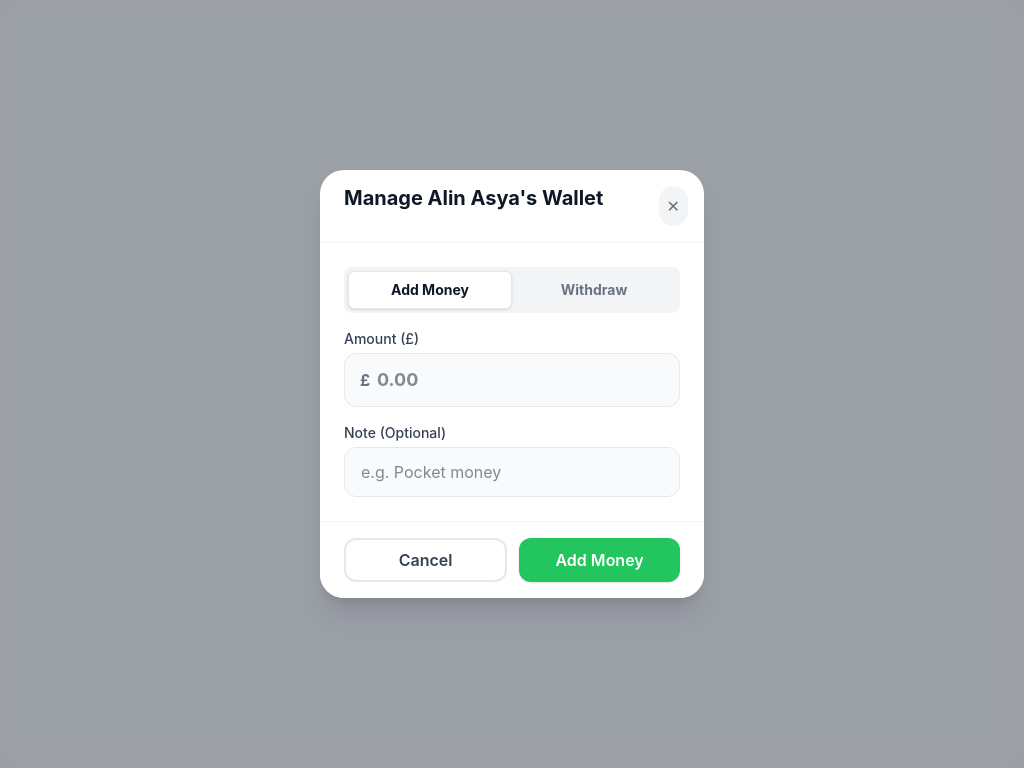
Test: AddMoneyModal — Manage Wallet modal › 8. Withdraw mode shows "Withdraw Money" then "Withdraw £<amount>"
This screenshot has width=1024, height=768.
Click the tab "Withdraw".
click(594, 290)  # box [512, 271, 676, 309]
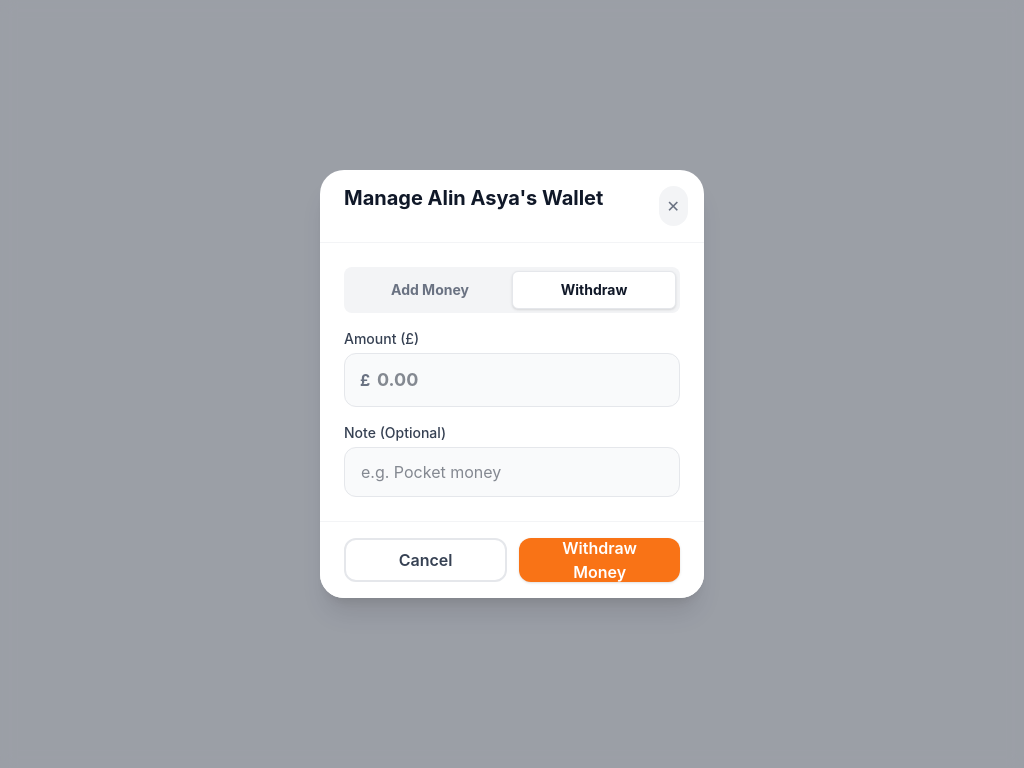
Check: the button with test id "manage-wallet-submit" reads "Withdraw Money", box [519, 538, 680, 582]
Type "5" into the number field labelled "Amount (£)".
click(512, 380); type("5")  # box [344, 353, 680, 407]
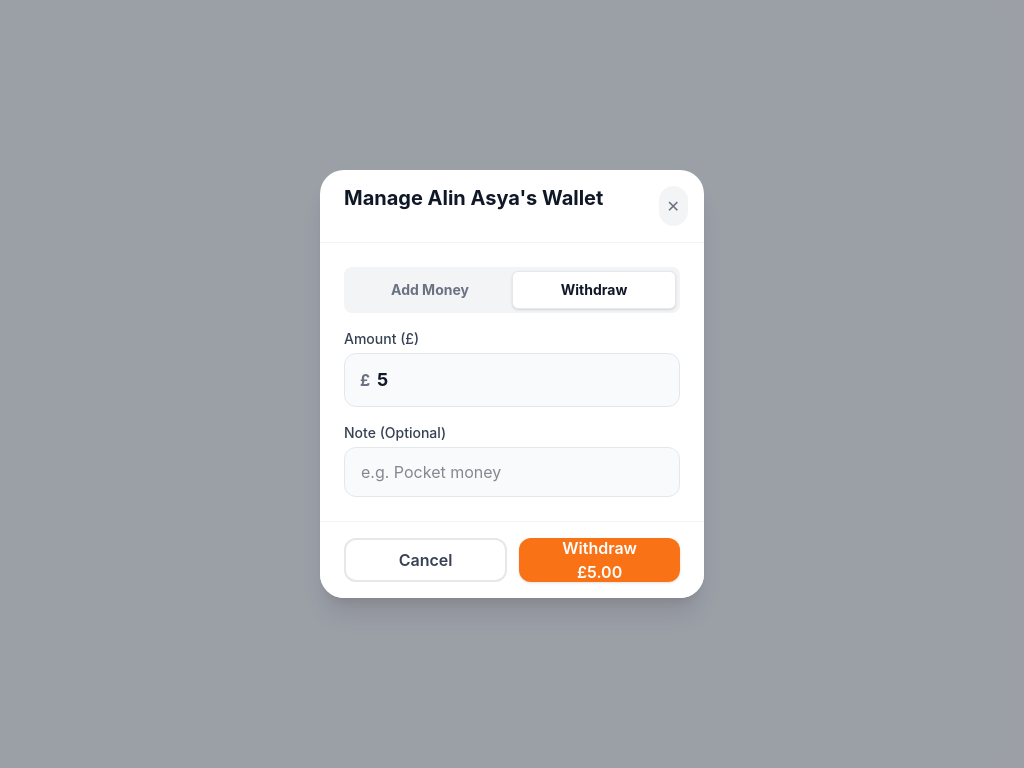
Check: the button with test id "manage-wallet-submit" reads "Withdraw £5.00", box [519, 538, 680, 582]
